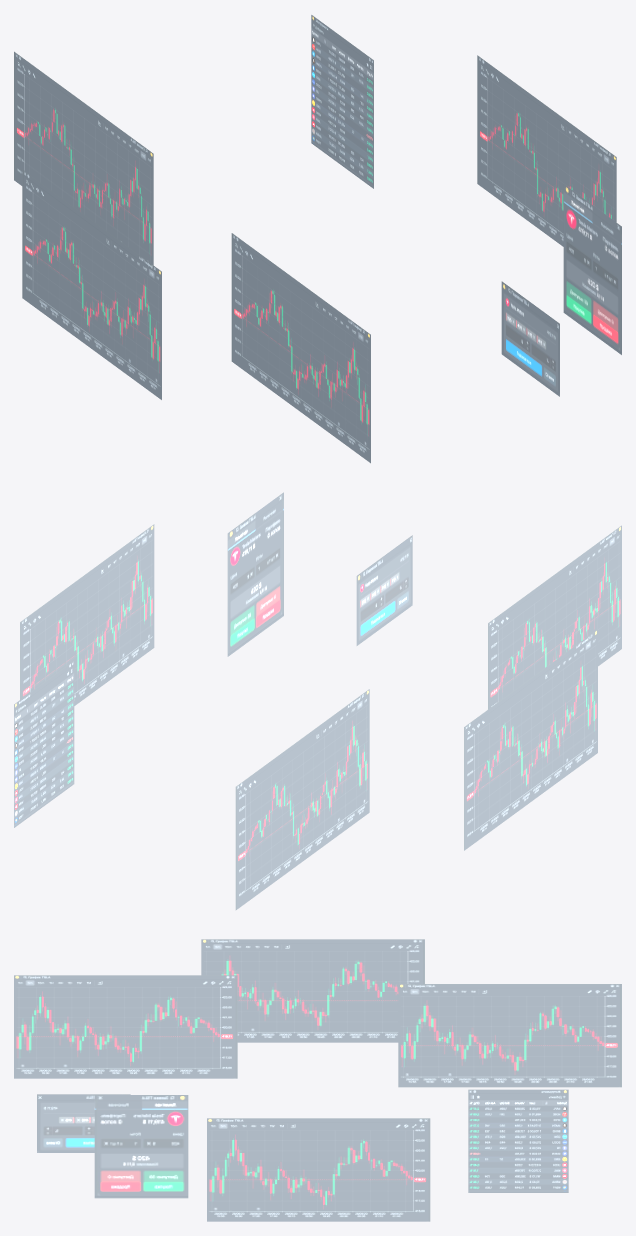
File: trading.glb
3 views of the same model, one above another, from view 1: azimuth 30°, elevation 25°; view 2: azimuth 150°, elevation 25°; view 3: azimuth 270°, elevation 25° (orthographic). The views are drawn at different scales.
Parts seen in each view (by area): view 1: image 1.004, image 1.006, image 1.005, image 1, image 1.001, image 1.002, image 1.003; view 2: image 1.005, image 1.004, image 1, image 1.006, image 1.001, image 1.002, image 1.003; view 3: image 1, image 1.005, image 1.006, image 1.004, image 1.001, image 1.002, image 1.003.
Boxes of the visible parts, x1,y1,x2,y2 form: image 1.004: (22,169,161,399); image 1.006: (231,233,370,463); image 1.005: (14,51,153,264); image 1: (477,55,616,246); image 1.001: (311,15,373,188); image 1.002: (563,184,621,354); image 1.003: (501,281,559,396); image 1.005: (235,689,369,910); image 1.004: (464,629,597,850); image 1: (20,524,154,705); image 1.006: (488,525,621,709); image 1.001: (14,660,74,827); image 1.002: (227,492,283,656); image 1.003: (356,535,412,645); image 1: (207,1118,430,1221); image 1.005: (398,984,621,1087); image 1.006: (14,975,237,1078); image 1.004: (201,939,424,1042); image 1.001: (468,1089,568,1192); image 1.002: (94,1095,188,1198); image 1.003: (37,1094,130,1152).
Bounding box in the file's own units: 3.72 × 1.02 × 5.34.
